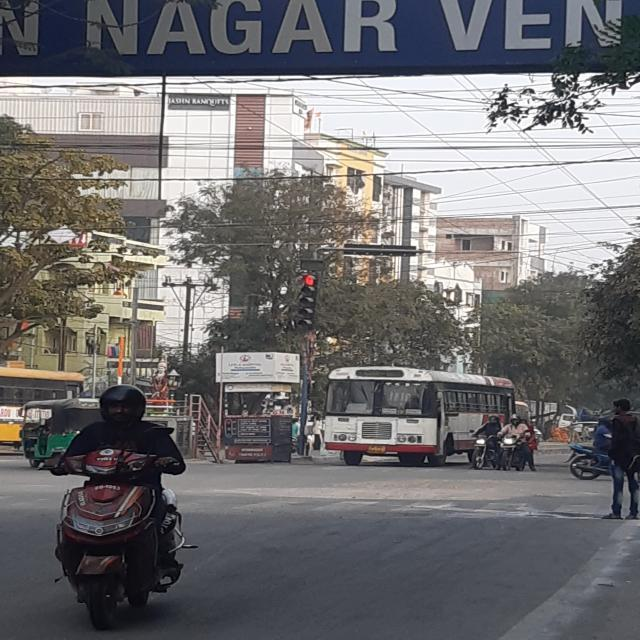Bus: (320, 357, 516, 470)
